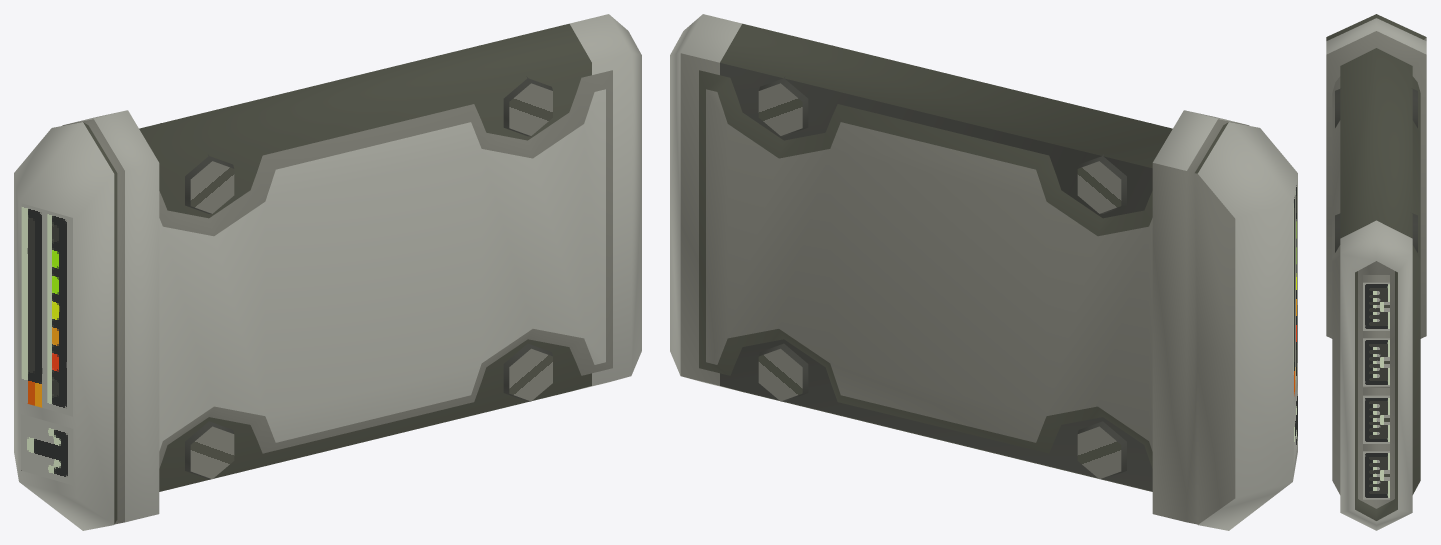
The model's file is harddisk.glb.
The picture shows the model from 3 angles, left to right: view 1: azimuth 30°, elevation 25°; view 2: azimuth 150°, elevation 25°; view 3: azimuth 270°, elevation 25°; orthographic projection. The views are drawn at different scales.
Visible parts, largest first — view 1: Plane.067, Plane.065, Plane.072, Circle.009; view 2: Plane.067, Plane.065, Circle.009, Plane.072; view 3: Plane.065, Plane.067, Plane.066, Circle.009.
Part boxes in pixels (bbox=[...]): Plane.067: bbox=[159, 70, 612, 468]; Plane.065: bbox=[14, 14, 641, 530]; Plane.072: bbox=[21, 203, 73, 485]; Circle.009: bbox=[185, 76, 552, 479]; Plane.067: bbox=[699, 70, 1152, 468]; Plane.065: bbox=[670, 14, 1297, 530]; Circle.009: bbox=[758, 45, 1150, 479]; Plane.072: bbox=[1293, 176, 1297, 466]; Plane.065: bbox=[1326, 14, 1426, 530]; Plane.067: bbox=[1332, 76, 1420, 494]; Plane.066: bbox=[1363, 275, 1389, 499]; Circle.009: bbox=[1335, 88, 1417, 252].
Bounding box in the file's own units: 0.4832 × 0.3112 × 0.0858.
Materials: 1 (1 with a texture image).
